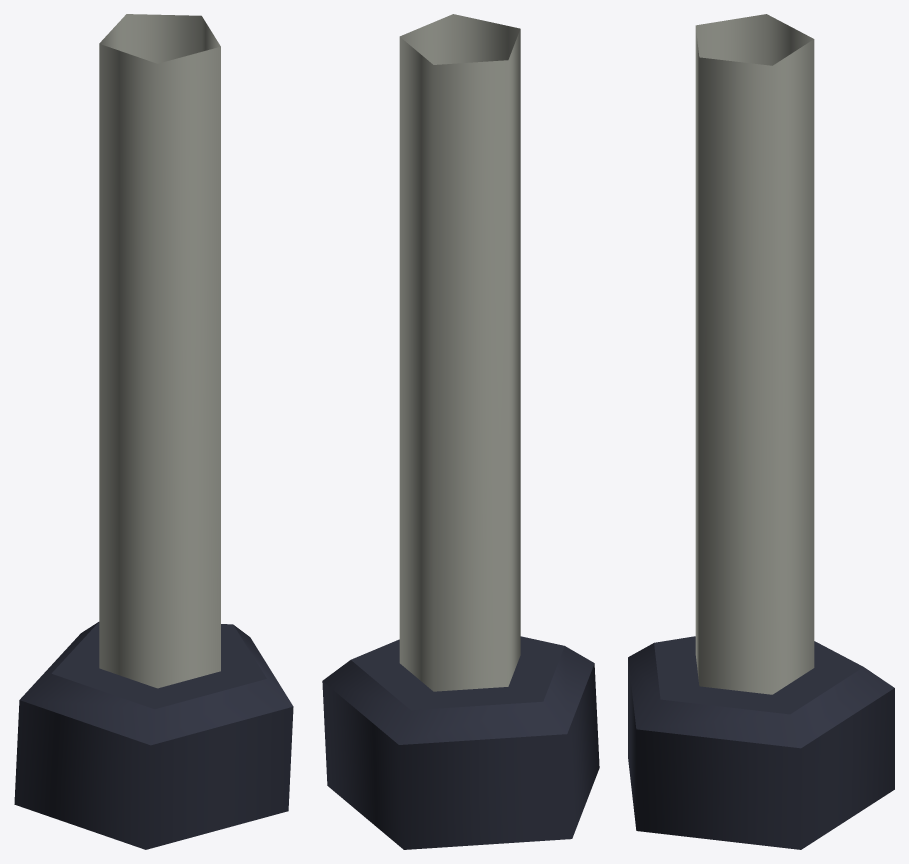
File: Antene_2_F_1h.glb
3 views of the same model, side by side, from view 1: azimuth 30°, elevation 25°; view 2: azimuth 150°, elevation 25°; view 3: azimuth 270°, elevation 25° (orthographic).
Visible parts, largest first — view 1: Antene_2_F_1h; view 2: Antene_2_F_1h; view 3: Antene_2_F_1h.
Boxes of the visible parts, x1,y1,x2,y2 form: Antene_2_F_1h: [14, 14, 293, 849]; Antene_2_F_1h: [322, 14, 599, 849]; Antene_2_F_1h: [628, 14, 894, 849].
Size of the model in its own units: 0.1844 by 0.5454 by 0.1744.
Materials: 1 (1 with a texture image).
